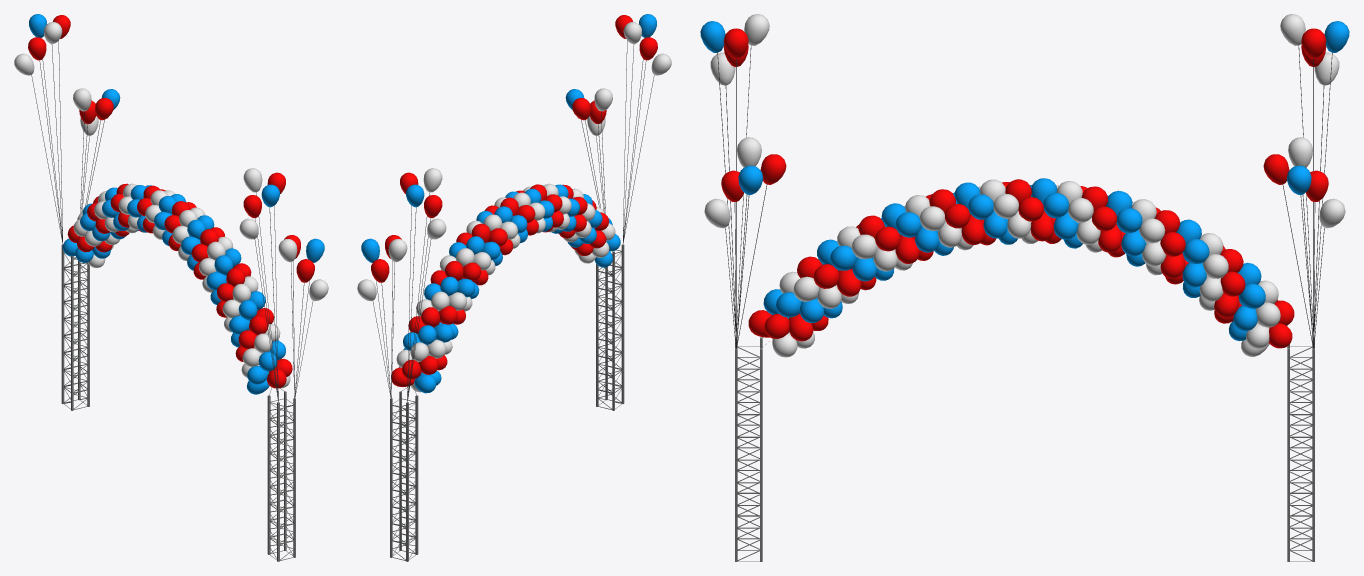
Rendered from Track_Arch.fbx.
The picture shows the model from 3 angles, left to right: view 1: azimuth 30°, elevation 25°; view 2: azimuth 150°, elevation 25°; view 3: azimuth 270°, elevation 25°; orthographic projection. The views are drawn at different scales.
Parts seen in each view (by area): view 1: Track_Arch; view 2: Track_Arch; view 3: Track_Arch.
Part boxes in pixels (box(x1,y1,x2,y2)): Track_Arch: box(14, 14, 328, 561); Track_Arch: box(357, 14, 671, 561); Track_Arch: box(700, 14, 1349, 561).
Size of the model in its own units: 4.61 by 18.47 by 20.73.
1 material, 1 textured.
